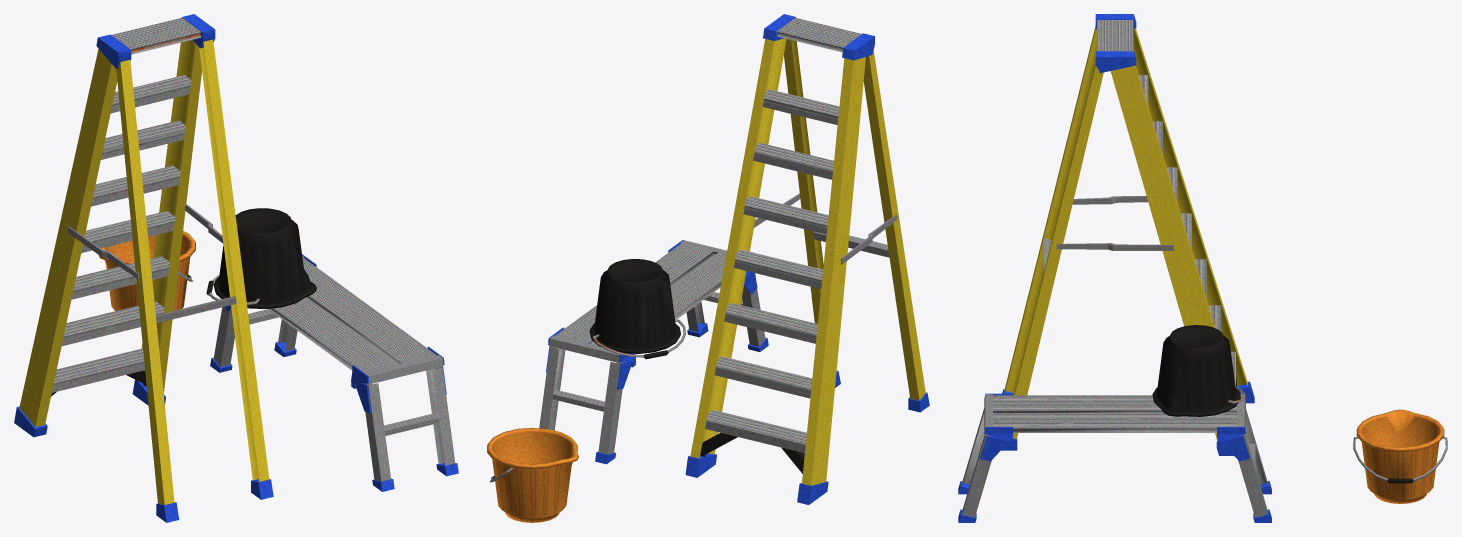
The model's file is SM_ConstructionAssets.fbx.
3 renders of one model, left to right at view 1: azimuth 30°, elevation 25°; view 2: azimuth 150°, elevation 25°; view 3: azimuth 270°, elevation 25°, orthographic. The views are drawn at different scales.
Parts seen in each view (by area): view 1: Ladder-col, SawHorse-box, BucketBlack-rb, Bucket-rbconv; view 2: Ladder-col, SawHorse-box, Bucket-rbconv, BucketBlack-rb; view 3: Ladder-col, SawHorse-box, BucketBlack-rb, Bucket-rbconv.
Part boxes in pixels (x1=…): Ladder-col: x1=14, y1=14, x2=273, y2=522; SawHorse-box: x1=210, y1=254, x2=458, y2=491; BucketBlack-rb: x1=213, y1=208, x2=316, y2=308; Bucket-rbconv: x1=98, y1=231, x2=195, y2=310; Ladder-col: x1=685, y1=14, x2=929, y2=504; SawHorse-box: x1=539, y1=240, x2=768, y2=464; Bucket-rbconv: x1=487, y1=427, x2=578, y2=522; BucketBlack-rb: x1=589, y1=259, x2=680, y2=353; Ladder-col: x1=1001, y1=14, x2=1254, y2=455; SawHorse-box: x1=958, y1=393, x2=1271, y2=522; BucketBlack-rb: x1=1152, y1=325, x2=1240, y2=416; Bucket-rbconv: x1=1356, y1=409, x2=1444, y2=503.
Bounding box in the file's own units: 115 × 166 × 189.
